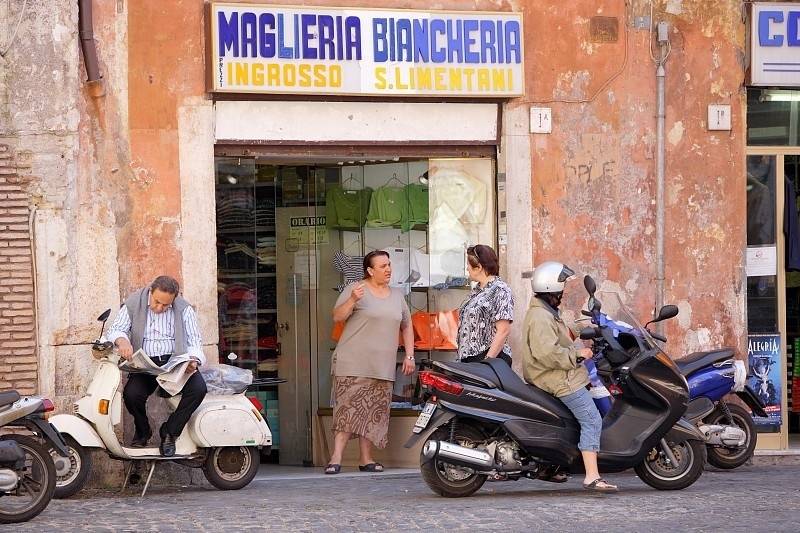non-vehicle: (412, 320, 713, 501), (50, 322, 277, 496), (652, 304, 762, 468), (0, 304, 79, 516)
